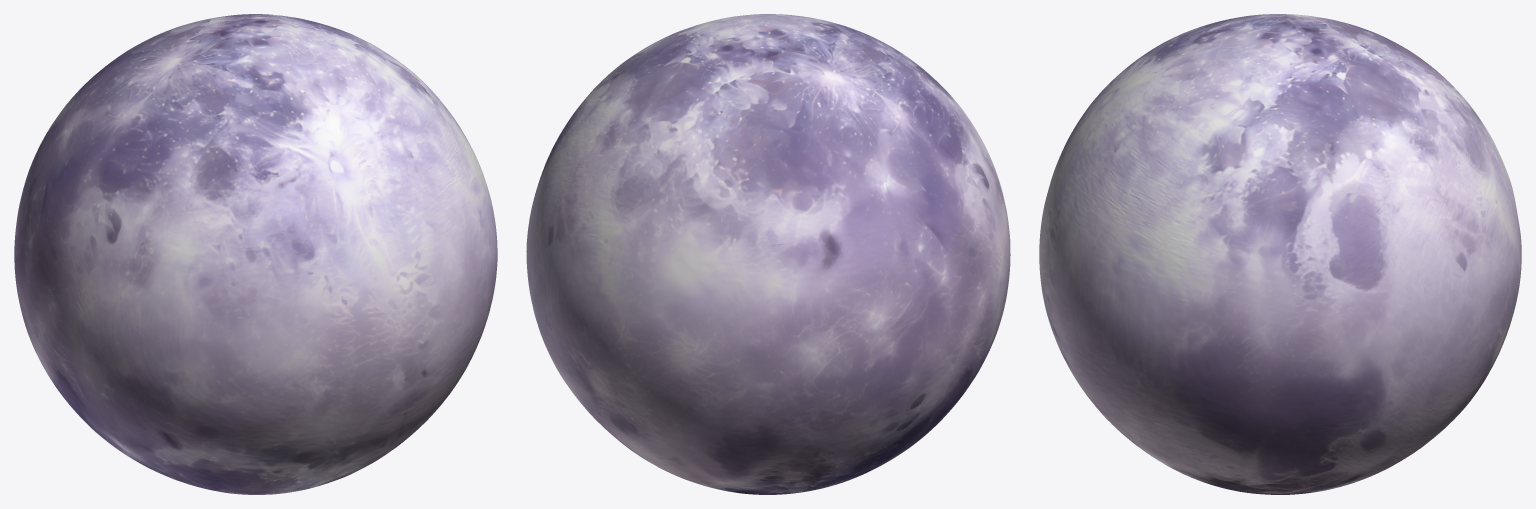
Rendered from moon.glb.
The picture shows the model from 3 angles, left to right: view 1: azimuth 30°, elevation 25°; view 2: azimuth 150°, elevation 25°; view 3: azimuth 270°, elevation 25°; orthographic projection.
Visible parts, largest first — view 1: model; view 2: model; view 3: model.
Part boxes in pixels (<box>): model: <box>14,14,497,494</box>; model: <box>526,14,1010,494</box>; model: <box>1039,14,1521,494</box>.
Bounding box in the file's own units: 1.9 × 1.9 × 1.9.
1 material, 1 textured.
